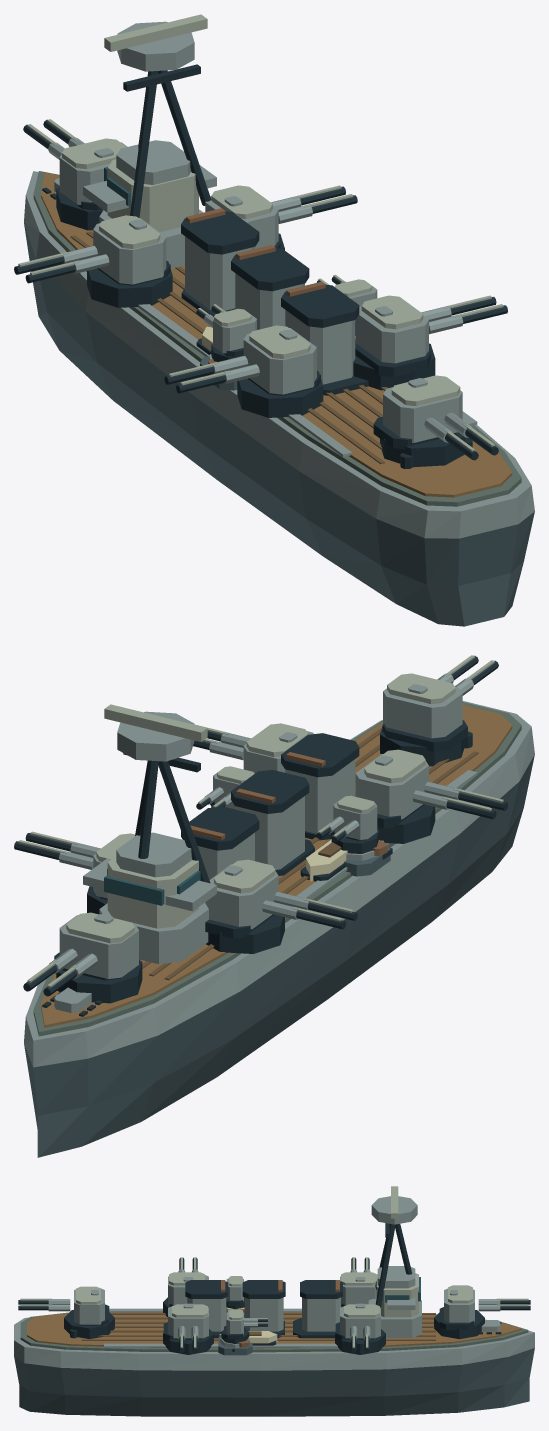
File: historic-averof.glb
3 renders of one model, top to bottom at view 1: azimuth 30°, elevation 25°; view 2: azimuth 150°, elevation 25°; view 3: azimuth 270°, elevation 25°, orthographic. The views are drawn at different scales.
Visible parts, largest first — view 1: historic-averof-historic-averof-geometry, historic-averof-part_bridge.061-geometry, historic-averof-turret_main_3.027-geometry, historic-averof-turret_main_2.045-geometry, historic-averof-turret_main_5.001-geometry, historic-averof-turret_main_1.050-geometry, historic-averof-historic_funnel_2.001-geometry, historic-averof-historic_funnel_0.063-geometry, historic-averof-turret_main_0.052-geometry, historic-averof-historic_funnel_1.034-geometry, historic-averof-turret_main_4.005-geometry, historic-averof-turret_aa_aa-port.064-geometry (+1 smaller); view 2: historic-averof-historic-averof-geometry, historic-averof-part_bridge.061-geometry, historic-averof-turret_main_2.045-geometry, historic-averof-turret_main_1.050-geometry, historic-averof-turret_main_3.027-geometry, historic-averof-turret_main_0.052-geometry, historic-averof-historic_funnel_1.034-geometry, historic-averof-historic_funnel_2.001-geometry, historic-averof-historic_funnel_0.063-geometry, historic-averof-turret_main_5.001-geometry, historic-averof-turret_main_4.005-geometry, historic-averof-turret_aa_aa-port.064-geometry (+2 smaller); view 3: historic-averof-historic-averof-geometry, historic-averof-part_bridge.061-geometry, historic-averof-turret_main_0.052-geometry, historic-averof-turret_main_1.050-geometry, historic-averof-historic_funnel_0.063-geometry, historic-averof-turret_main_4.005-geometry, historic-averof-turret_main_5.001-geometry, historic-averof-historic_funnel_1.034-geometry, historic-averof-historic_funnel_2.001-geometry, historic-averof-turret_main_2.045-geometry, historic-averof-turret_main_3.027-geometry, historic-averof-turret_aa_aa-starboard.061-geometry (+2 smaller).
Part boxes in pixels (x1,y1,x2,y2): historic-averof-historic-averof-geometry: (24, 171, 534, 626); historic-averof-part_bridge.061-geometry: (83, 14, 216, 268); historic-averof-turret_main_3.027-geometry: (164, 325, 323, 417); historic-averof-turret_main_2.045-geometry: (14, 215, 172, 307); historic-averof-turret_main_5.001-geometry: (353, 295, 507, 390); historic-averof-turret_main_1.050-geometry: (373, 375, 498, 467); historic-averof-historic_funnel_2.001-geometry: (281, 281, 368, 395); historic-averof-historic_funnel_0.063-geometry: (181, 208, 259, 316); historic-averof-turret_main_0.052-geometry: (23, 119, 127, 230); historic-averof-historic_funnel_1.034-geometry: (231, 245, 309, 329); historic-averof-turret_main_4.005-geometry: (205, 185, 357, 250); historic-averof-turret_aa_aa-port.064-geometry: (196, 304, 256, 361); historic-averof-historic-averof-geometry: (24, 701, 534, 1157); historic-averof-part_bridge.061-geometry: (83, 704, 216, 963); historic-averof-turret_main_2.045-geometry: (205, 859, 357, 953); historic-averof-turret_main_1.050-geometry: (380, 655, 498, 766); historic-averof-turret_main_3.027-geometry: (355, 749, 507, 843); historic-averof-turret_main_0.052-geometry: (23, 912, 142, 1003); historic-averof-historic_funnel_1.034-geometry: (231, 770, 314, 875); historic-averof-historic_funnel_2.001-geometry: (281, 733, 359, 840); historic-averof-historic_funnel_0.063-geometry: (181, 806, 259, 879); historic-averof-turret_main_5.001-geometry: (193, 723, 313, 773); historic-averof-turret_main_4.005-geometry: (14, 831, 135, 914); historic-averof-turret_aa_aa-port.064-geometry: (316, 795, 378, 853); historic-averof-historic-averof-geometry: (14, 1307, 534, 1416); historic-averof-part_bridge.061-geometry: (368, 1186, 421, 1337); historic-averof-turret_main_0.052-geometry: (434, 1285, 530, 1339); historic-averof-turret_main_1.050-geometry: (18, 1286, 114, 1339); historic-averof-historic_funnel_0.063-geometry: (293, 1280, 342, 1338); historic-averof-turret_main_4.005-geometry: (335, 1303, 385, 1354); historic-averof-turret_main_5.001-geometry: (163, 1303, 213, 1354); historic-averof-historic_funnel_1.034-geometry: (242, 1280, 285, 1338); historic-averof-historic_funnel_2.001-geometry: (185, 1280, 228, 1338); historic-averof-turret_main_2.045-geometry: (340, 1257, 376, 1307); historic-averof-turret_main_3.027-geometry: (163, 1257, 208, 1317); historic-averof-turret_aa_aa-starboard.061-geometry: (221, 1309, 267, 1343).
Size of the model in its own units: 1.79 by 1.84 by 4.32.
